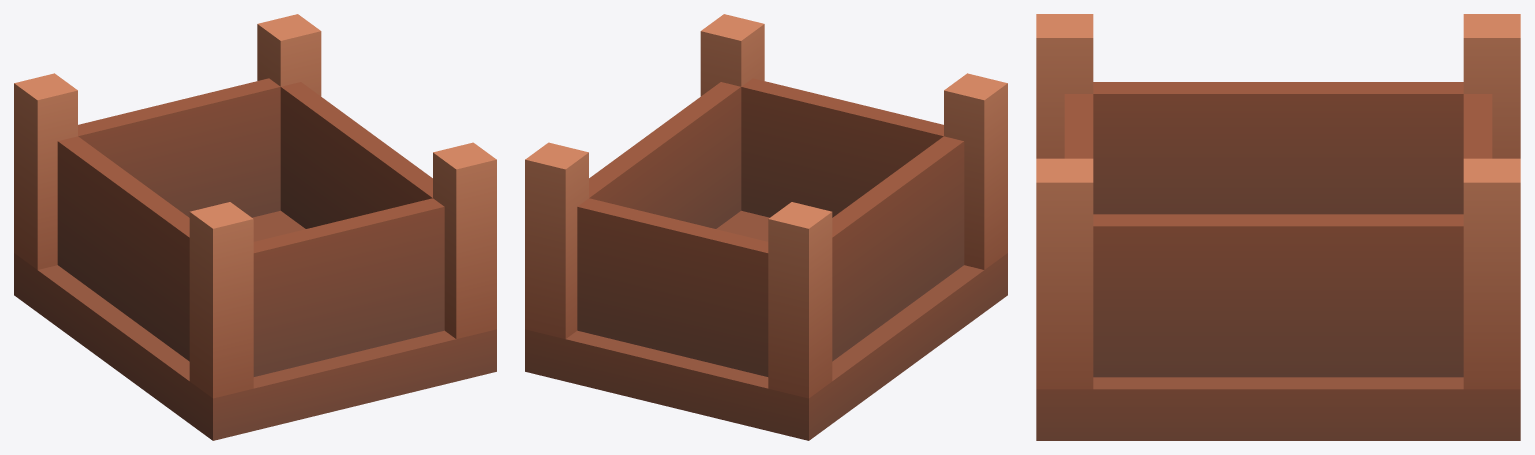
Rendered from crate_0.fbx.
3 views of the same model, side by side, from view 1: azimuth 30°, elevation 25°; view 2: azimuth 150°, elevation 25°; view 3: azimuth 270°, elevation 25° (orthographic). The views are drawn at different scales.
Visible parts, largest first — view 1: crate_0; view 2: crate_0; view 3: crate_0.
Part boxes in pixels (<box>): crate_0: <box>14,14,496,440</box>; crate_0: <box>525,14,1007,440</box>; crate_0: <box>1036,14,1520,440</box>.
Size of the model in its own units: 1.08 by 0.77 by 1.31.
1 material, 1 textured.
